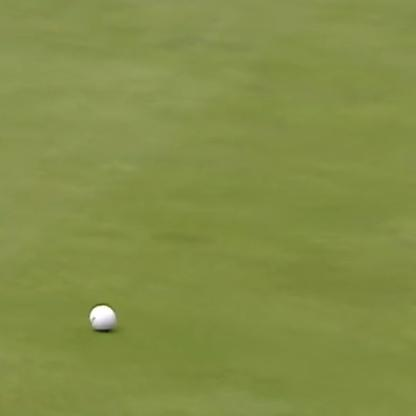golfball: (86, 301, 114, 329)
